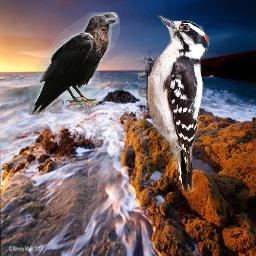Crow: (29, 12, 120, 115)
Woodpecker: (138, 15, 210, 197)
